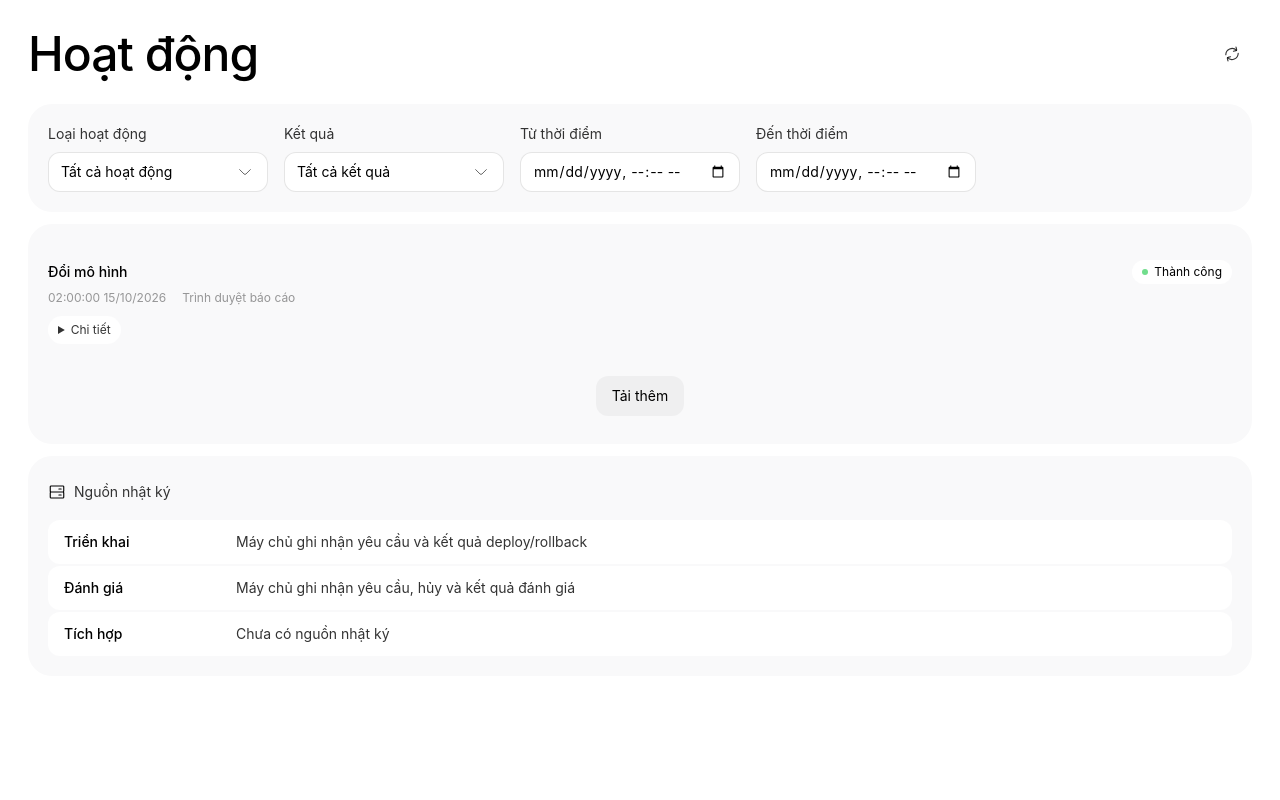
it: WorkspaceActivity › keeps rows visibly stale on failure and retries the failed pagination operation
The width and height of the screenshot is (1280, 800).
Click the button "Tải thêm" at (640, 396), box 596,376 -> 684,416
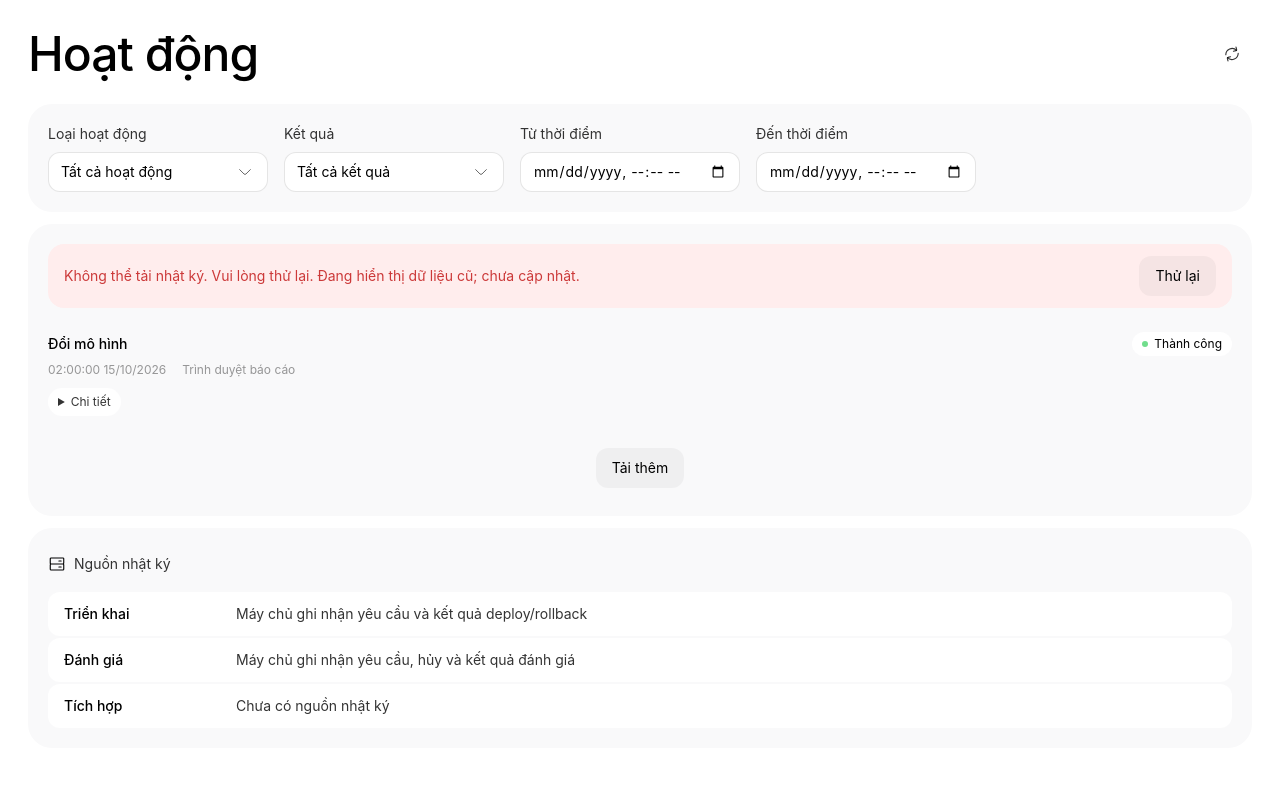
Check: the message shows "dữ liệu cũ", box 314,267 -> 580,284
Click the button "Thử lại" at (1178, 276), box 1139,256 -> 1216,296
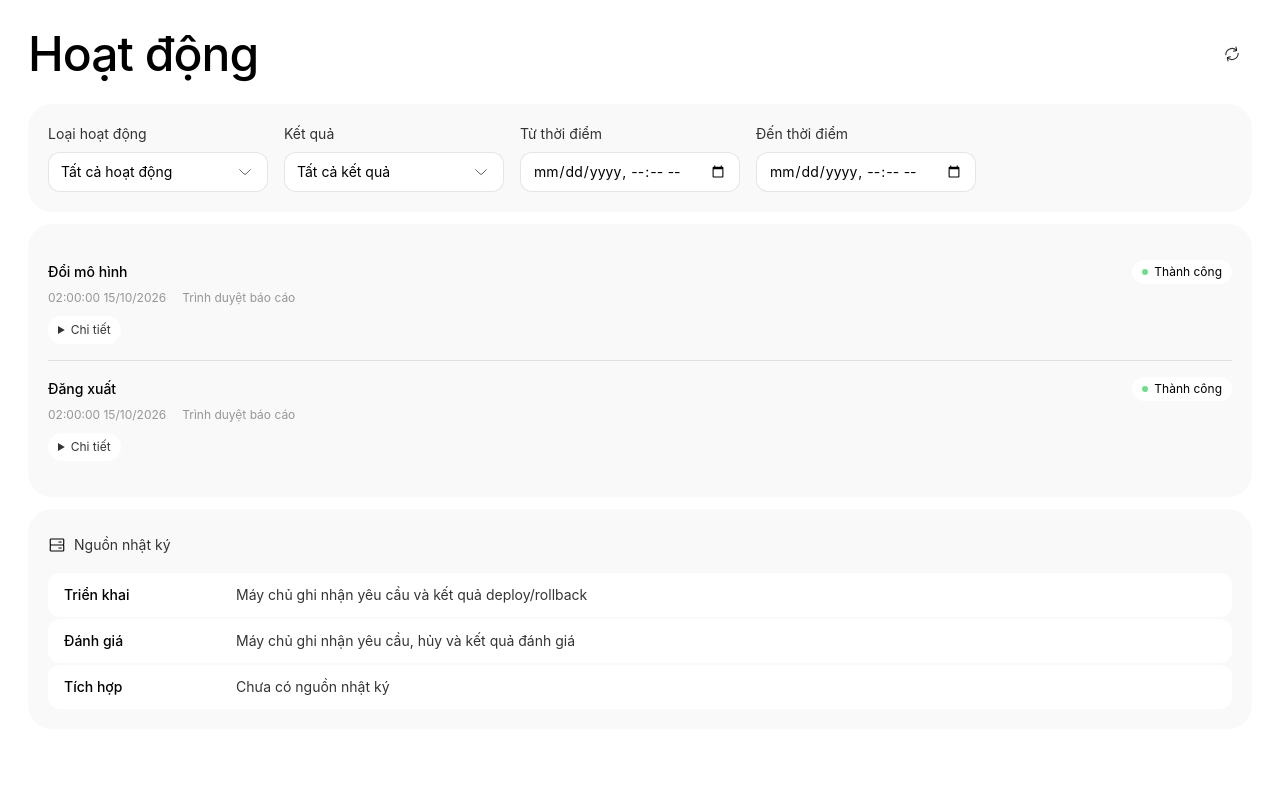
Check: the message is gone
